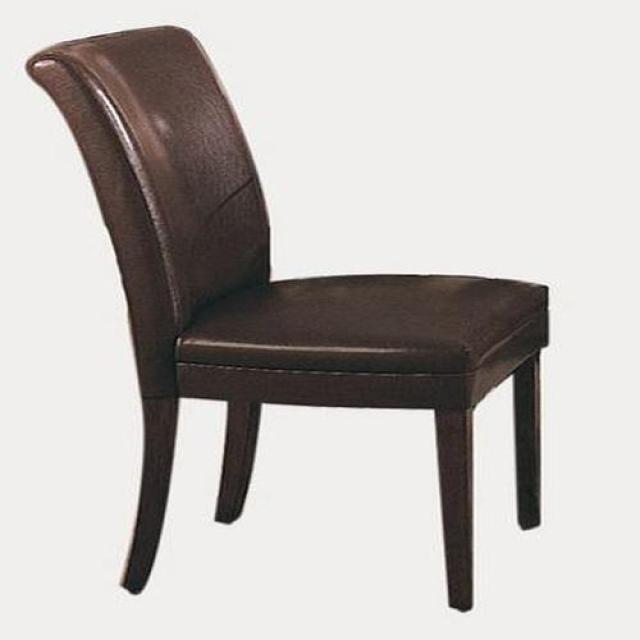chair: (26, 27, 550, 614)
